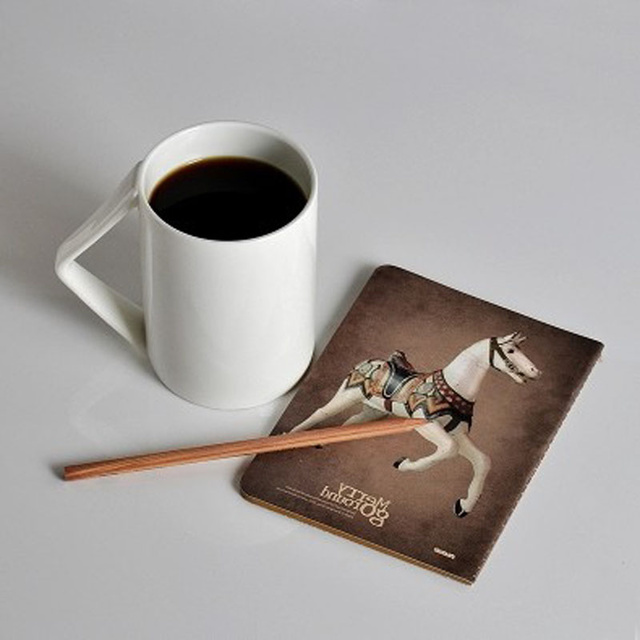cup: (52, 118, 319, 406)
